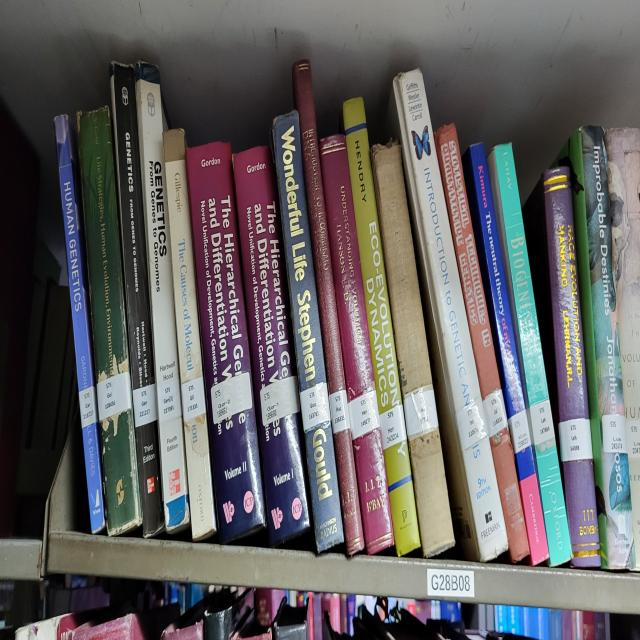Book: (390, 70, 510, 563), (435, 124, 530, 563), (462, 143, 549, 565), (341, 97, 420, 555), (292, 60, 365, 555), (488, 143, 571, 565), (371, 143, 455, 557), (562, 127, 636, 568), (271, 111, 344, 552), (186, 143, 266, 544), (319, 135, 394, 555), (524, 165, 600, 568), (234, 146, 310, 547), (78, 106, 141, 536), (110, 62, 165, 538), (135, 62, 189, 530), (162, 130, 216, 541), (54, 114, 105, 533)
Label: (211, 373, 252, 425), (260, 376, 300, 427), (96, 371, 132, 422), (404, 387, 438, 438), (456, 398, 488, 449), (348, 390, 380, 438), (300, 381, 330, 430), (559, 419, 592, 463), (482, 390, 508, 438), (529, 398, 555, 446), (380, 403, 406, 449), (181, 376, 206, 422), (132, 384, 158, 427), (601, 414, 628, 455), (509, 409, 531, 455), (158, 379, 181, 422), (329, 390, 350, 433), (79, 387, 98, 427)
